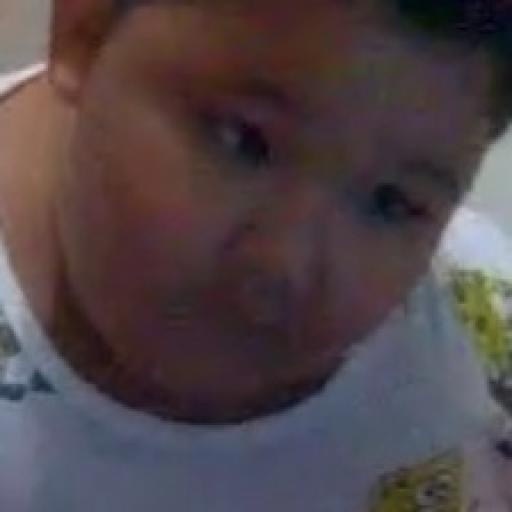Autism: (60, 0, 512, 512)
